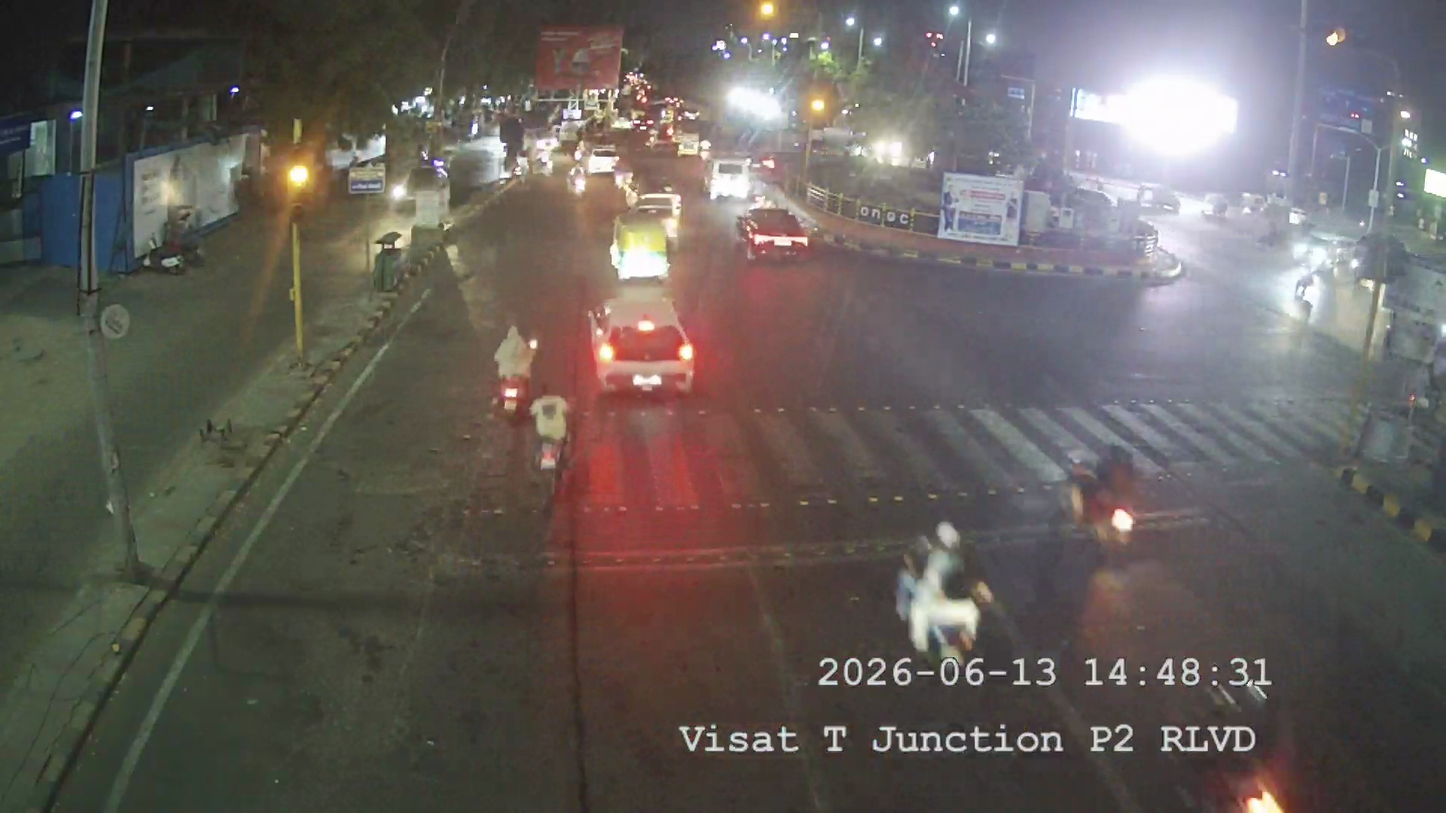auto_rickshaw: (608, 212, 675, 281)
car: (586, 291, 700, 397), (734, 202, 813, 262), (703, 151, 765, 203), (581, 141, 621, 175)
two_wheeler: (880, 515, 1002, 668), (1048, 441, 1153, 569), (487, 315, 542, 420), (1287, 258, 1325, 325), (1128, 215, 1165, 263)
